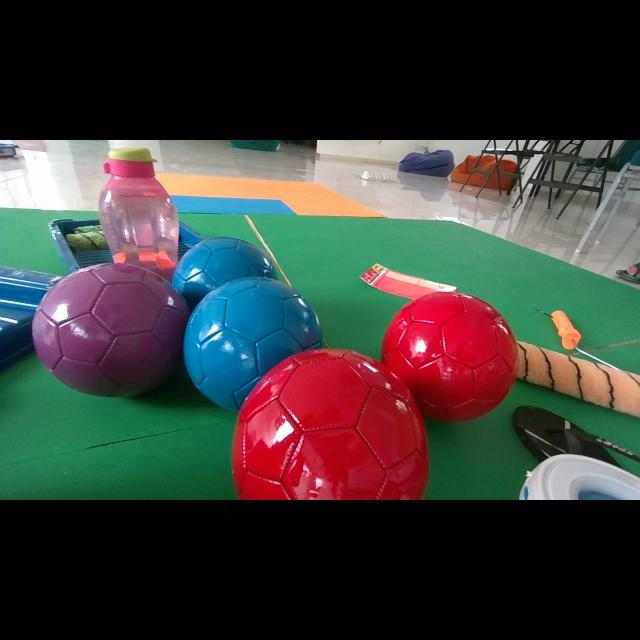B: (184, 278, 321, 410), (172, 238, 278, 308)
P: (32, 262, 190, 396)
R: (232, 349, 429, 499), (381, 292, 518, 421)
